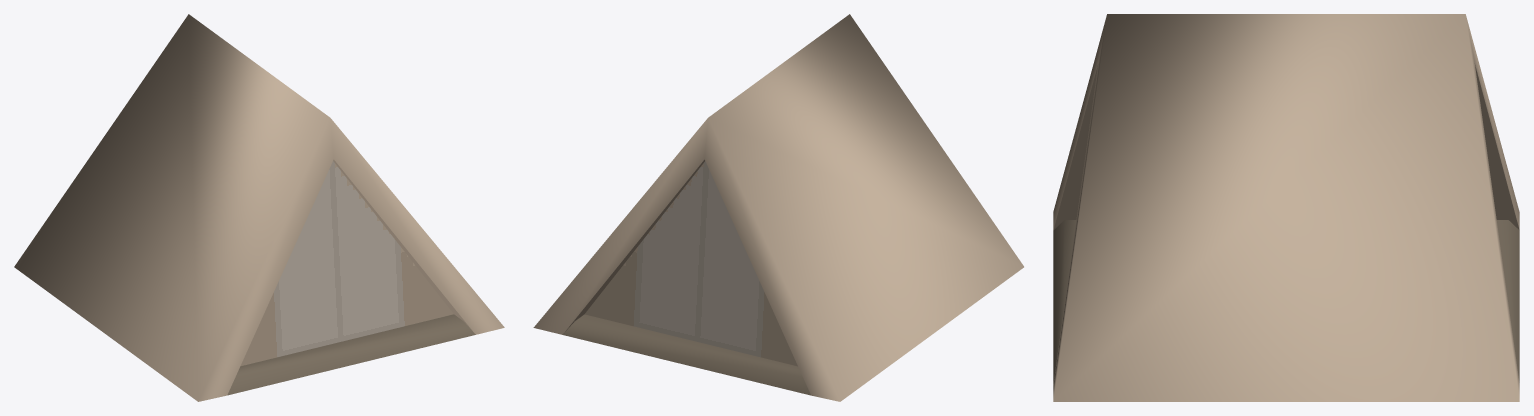
The model's file is 0110_Camping_Tent.glb.
3 renders of one model, left to right at view 1: azimuth 30°, elevation 25°; view 2: azimuth 150°, elevation 25°; view 3: azimuth 270°, elevation 25°, orthographic. The views are drawn at different scales.
Visible parts, largest first — view 1: part_0; view 2: part_0; view 3: part_0.
Part boxes in pixels (x1,y1,x2,y2): part_0: (14, 14, 504, 401); part_0: (533, 14, 1023, 401); part_0: (1053, 14, 1519, 401).
Size of the model in its own units: 2.5 by 1.81 by 2.6.
Materials: 1 (1 with a texture image).
